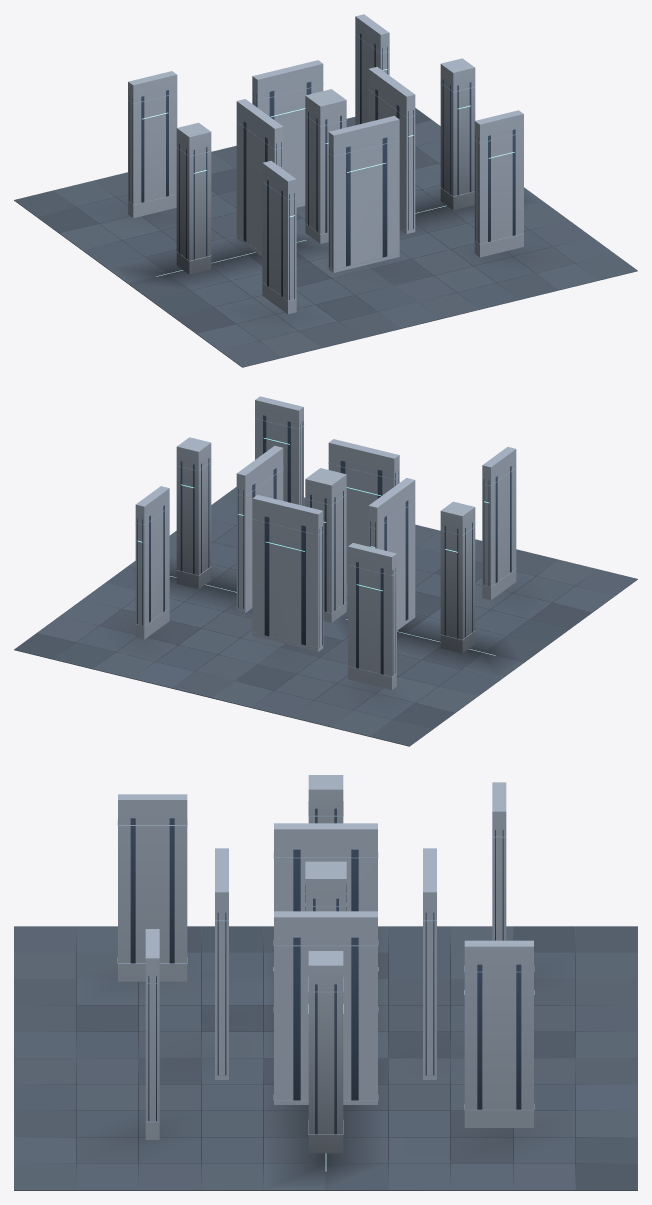
Rendered from 01_world.glb.
3 renders of one model, top to bottom at view 1: azimuth 30°, elevation 25°; view 2: azimuth 150°, elevation 25°; view 3: azimuth 270°, elevation 25°, orthographic. The views are drawn at different scales.
Parts seen in each view (by area): view 1: world_11_body_nocol, world_01_floor_noshadow_nocol, world_11_floor_noshadow_nocol, world_01_body_nocol, world_00_floor_noshadow_nocol, world_10_body_nocol, world_00_body_nocol, world_11_panel_noshadow_nocol, world_10_floor_noshadow_nocol, world_01_panel_noshadow_nocol, world_00_panel_noshadow_nocol, world_11_trim_noshadow_nocol (+1 smaller); view 2: world_11_body_nocol, world_00_floor_noshadow_nocol, world_10_floor_noshadow_nocol, world_10_body_nocol, world_01_body_nocol, world_01_floor_noshadow_nocol, world_00_body_nocol, world_11_floor_noshadow_nocol, world_11_panel_noshadow_nocol, world_01_panel_noshadow_nocol, world_10_panel_noshadow_nocol, world_00_panel_noshadow_nocol; view 3: world_11_floor_noshadow_nocol, world_10_floor_noshadow_nocol, world_01_floor_noshadow_nocol, world_11_body_nocol, world_00_floor_noshadow_nocol, world_01_body_nocol, world_10_body_nocol, world_11_panel_noshadow_nocol, world_01_panel_noshadow_nocol, world_10_panel_noshadow_nocol, world_00_body_nocol, world_11_trim_noshadow_nocol.
Boxes of the visible parts, bbox=[...] form: world_11_body_nocol: bbox=[305, 58, 523, 272]; world_01_floor_noshadow_nocol: bbox=[128, 238, 440, 367]; world_11_floor_noshadow_nocol: bbox=[367, 187, 637, 319]; world_01_body_nocol: bbox=[176, 99, 296, 314]; world_00_floor_noshadow_nocol: bbox=[14, 151, 312, 283]; world_10_body_nocol: bbox=[252, 14, 389, 207]; world_00_body_nocol: bbox=[128, 71, 177, 218]; world_11_panel_noshadow_nocol: bbox=[308, 79, 515, 268]; world_10_floor_noshadow_nocol: bbox=[212, 108, 445, 219]; world_01_panel_noshadow_nocol: bbox=[179, 121, 294, 300]; world_00_panel_noshadow_nocol: bbox=[129, 90, 168, 203]; world_11_trim_noshadow_nocol: bbox=[305, 83, 523, 269]; world_11_body_nocol: bbox=[176, 396, 399, 622]; world_00_floor_noshadow_nocol: bbox=[212, 617, 523, 746]; world_10_floor_noshadow_nocol: bbox=[14, 566, 284, 698]; world_10_body_nocol: bbox=[135, 486, 323, 651]; world_01_body_nocol: bbox=[368, 447, 516, 653]; world_01_floor_noshadow_nocol: bbox=[339, 530, 637, 662]; world_00_body_nocol: bbox=[348, 543, 396, 689]; world_11_floor_noshadow_nocol: bbox=[128, 487, 439, 598]; world_11_panel_noshadow_nocol: bbox=[180, 415, 398, 611]; world_01_panel_noshadow_nocol: bbox=[370, 466, 511, 638]; world_10_panel_noshadow_nocol: bbox=[137, 505, 322, 647]; world_00_panel_noshadow_nocol: bbox=[356, 562, 395, 675]; world_11_floor_noshadow_nocol: bbox=[14, 1058, 325, 1190]; world_10_floor_noshadow_nocol: bbox=[326, 1058, 637, 1190]; world_01_floor_noshadow_nocol: bbox=[14, 926, 273, 1058]; world_11_body_nocol: bbox=[145, 848, 377, 1153]; world_00_floor_noshadow_nocol: bbox=[378, 926, 637, 1058]; world_01_body_nocol: bbox=[118, 775, 377, 981]; world_10_body_nocol: bbox=[423, 848, 533, 1127]; world_11_panel_noshadow_nocol: bbox=[148, 884, 358, 1134]; world_01_panel_noshadow_nocol: bbox=[130, 808, 358, 963]; world_10_panel_noshadow_nocol: bbox=[425, 912, 521, 1109]; world_00_body_nocol: bbox=[492, 782, 506, 940]; world_11_trim_noshadow_nocol: bbox=[145, 893, 378, 1134].
Size of the model in its own units: 90 by 32.4 by 90.
